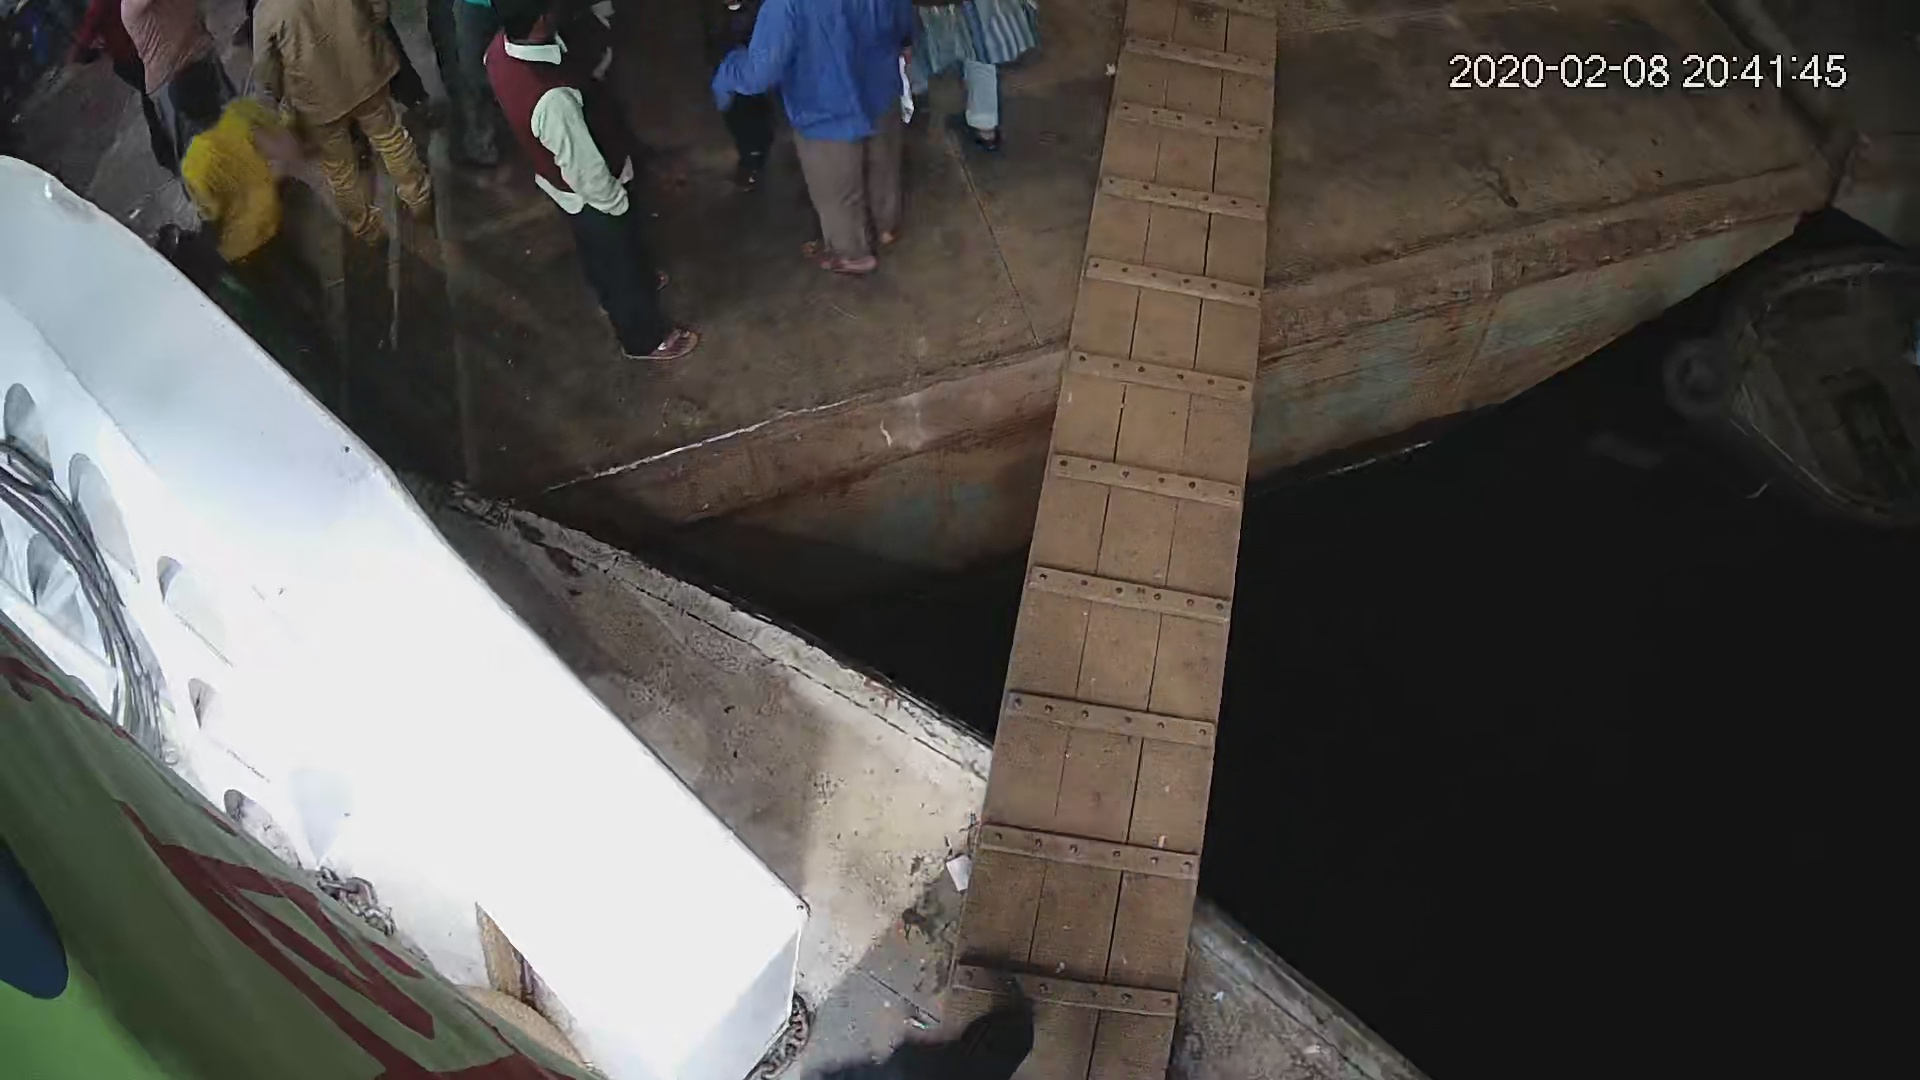person: (465, 1, 696, 366), (739, 1, 919, 284), (246, 1, 446, 241)
